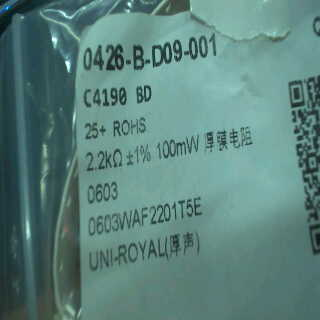2.2kR: (81, 146, 123, 171)
